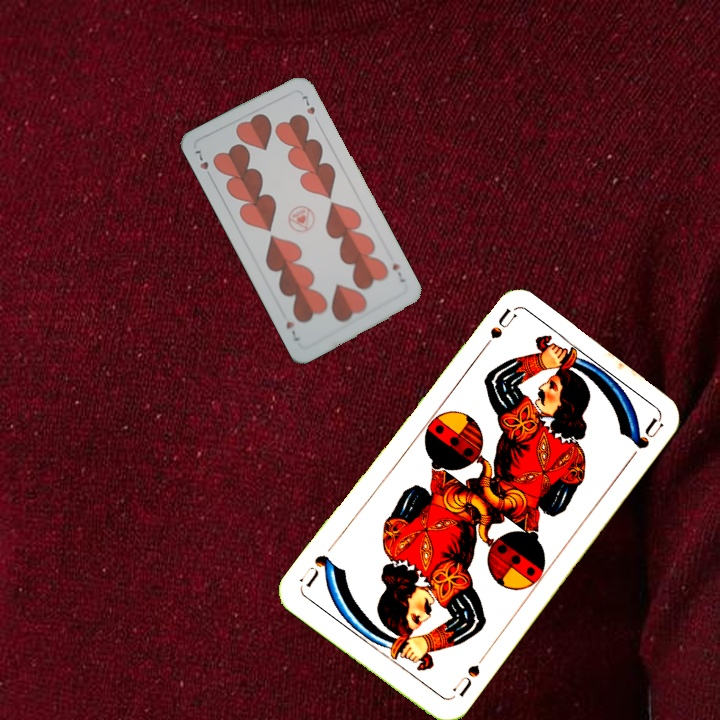H7: (190, 146, 215, 182), (388, 259, 408, 285)
SU: (473, 305, 518, 359), (447, 650, 489, 701)
